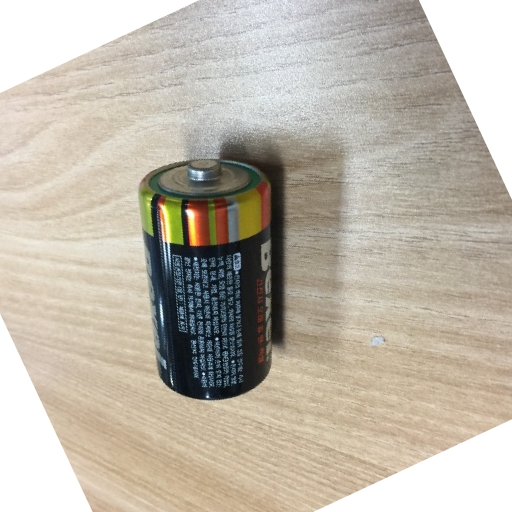Battery_0: (133, 145, 287, 405)
